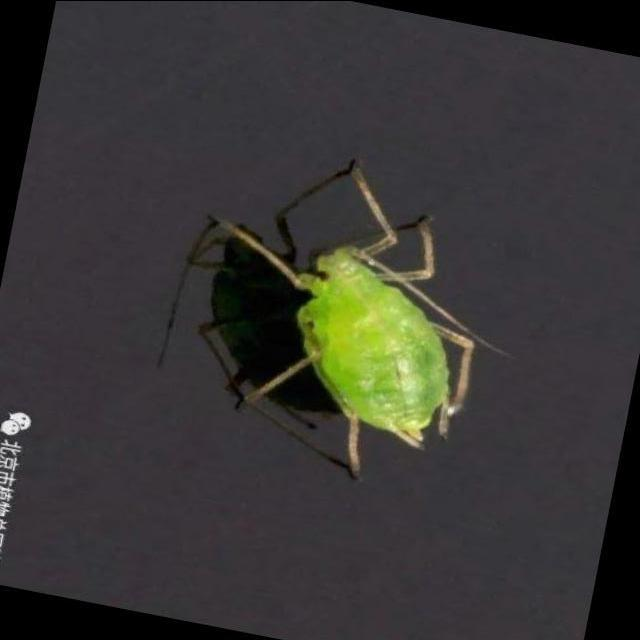aphid: (160, 111, 550, 535)
